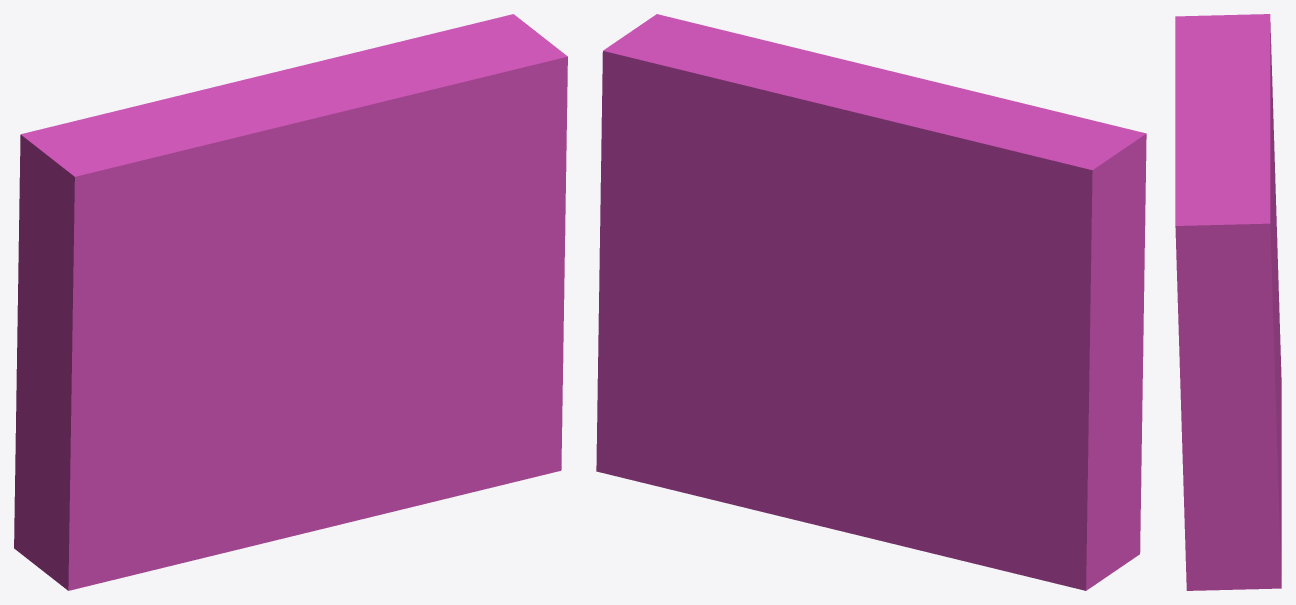
Rendered from Basic_Hand.FBX.
3 renders of one model, left to right at view 1: azimuth 30°, elevation 25°; view 2: azimuth 150°, elevation 25°; view 3: azimuth 270°, elevation 25°, orthographic. The views are drawn at different scales.
Visible parts, largest first — view 1: Box005; view 2: Box005; view 3: Box005.
Part boxes in pixels (<box>): Box005: <box>14,14,567,590</box>; Box005: <box>596,14,1146,590</box>; Box005: <box>1175,14,1281,590</box>.
Size of the model in its own units: 6.68 by 5.46 by 1.43.
